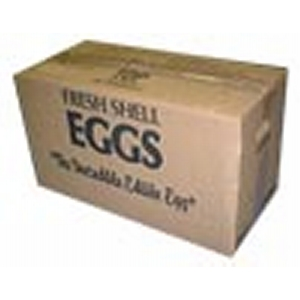Rec_Paper: (13, 27, 291, 261)
